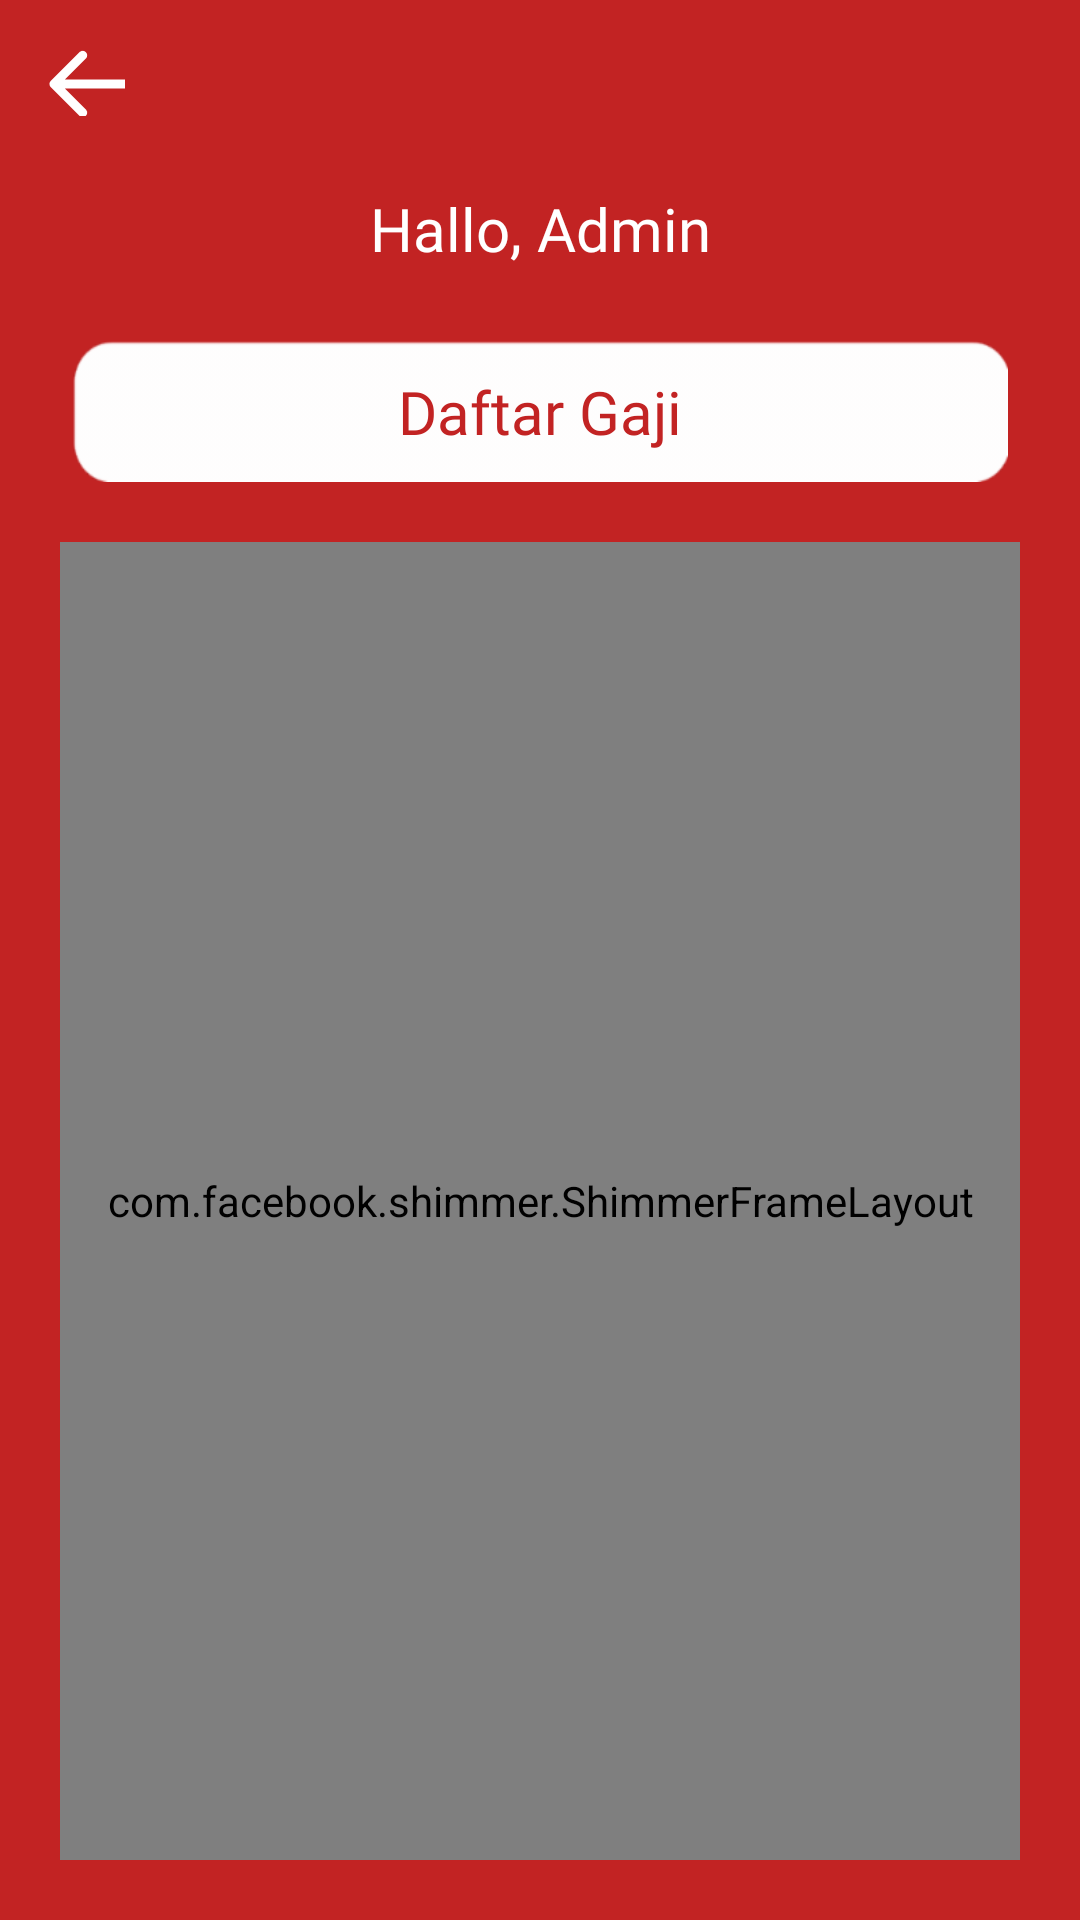

Icons on this 1080px x 1920px Android screen, each with the point to tap as [x,y]:
back: [87,83]
